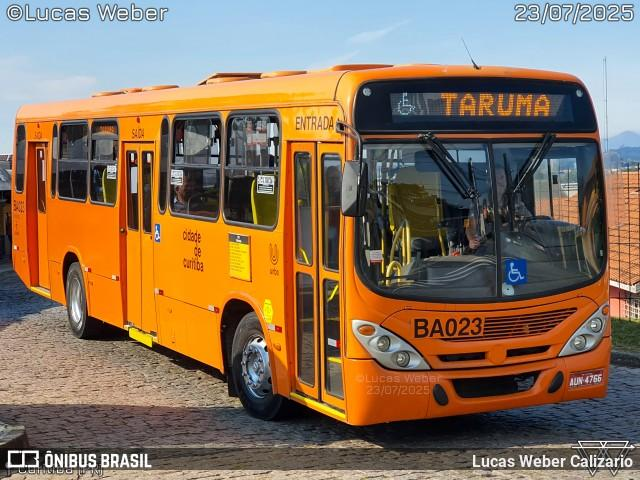TARUMA: (433, 88, 558, 121)
